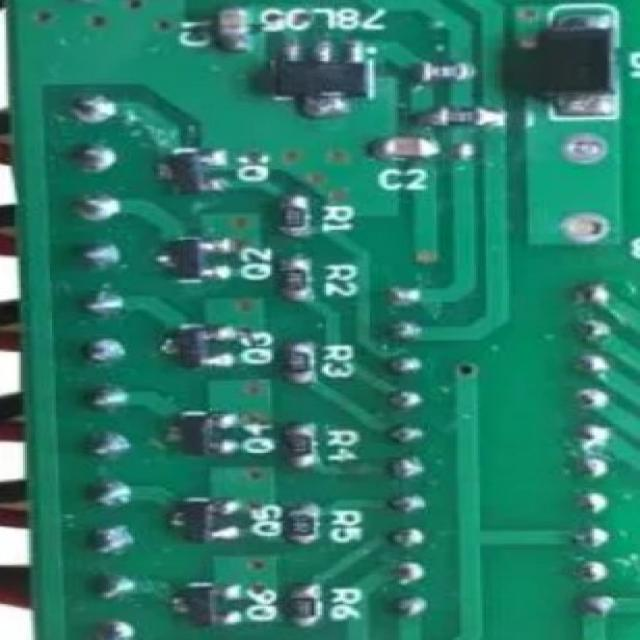4439: (150, 232, 218, 286), (162, 573, 232, 621), (155, 150, 216, 201), (168, 492, 233, 538), (174, 409, 238, 452), (173, 324, 224, 366)
IC: (267, 44, 368, 109)
capacitor 1V5: (205, 0, 251, 53), (379, 133, 426, 172)
diode -D1-: (526, 18, 614, 111)
resistor IR1: (272, 422, 317, 466), (276, 264, 320, 304), (278, 340, 320, 381), (290, 580, 330, 623), (277, 200, 325, 234), (430, 109, 490, 135), (283, 503, 327, 538)
